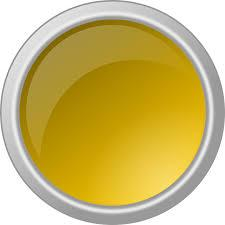yellow_circle: (10, 9, 215, 211)
